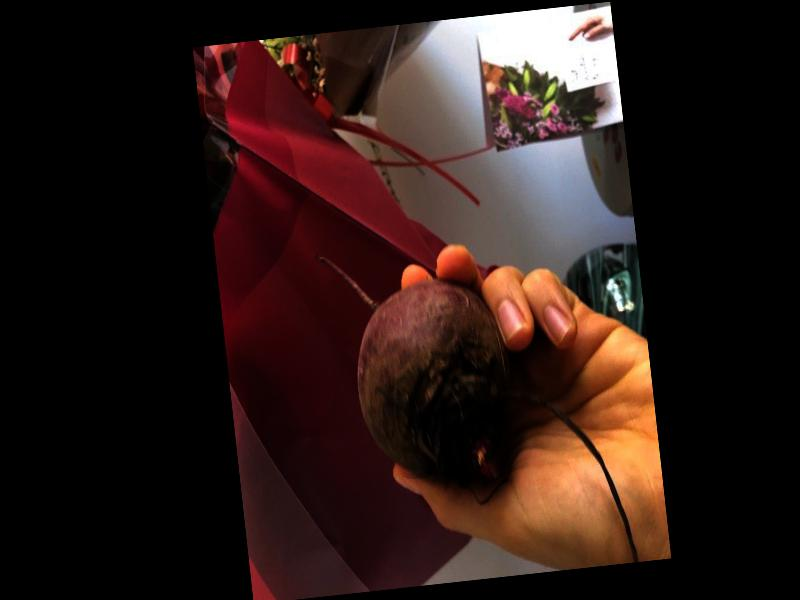Beet: (314, 221, 638, 589)
